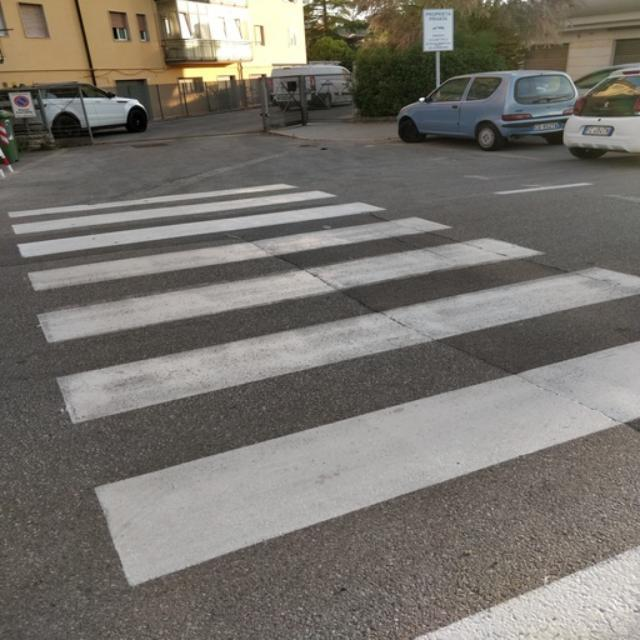sidewalk: (7, 181, 640, 637)
